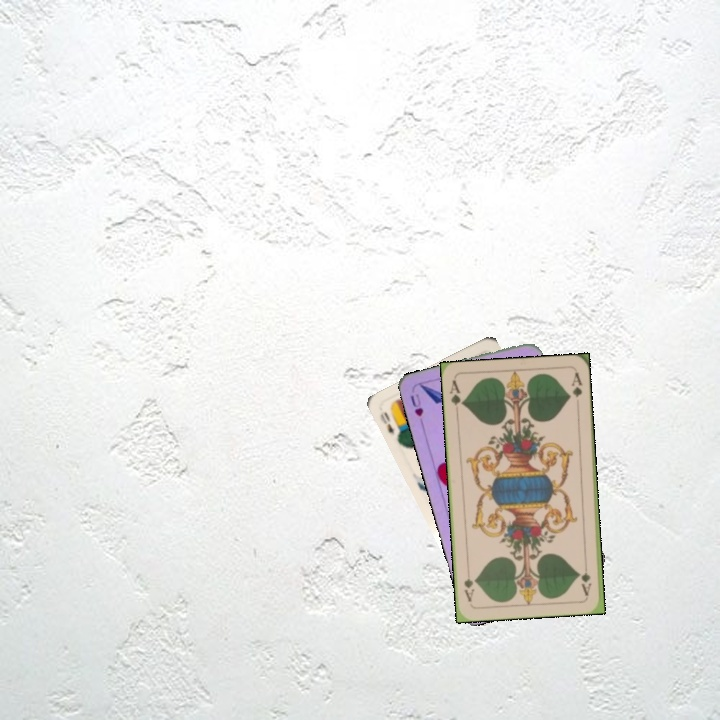EO: (376, 403, 404, 442)
GA: (445, 377, 466, 417), (578, 557, 594, 598)
HU: (406, 389, 426, 428)
